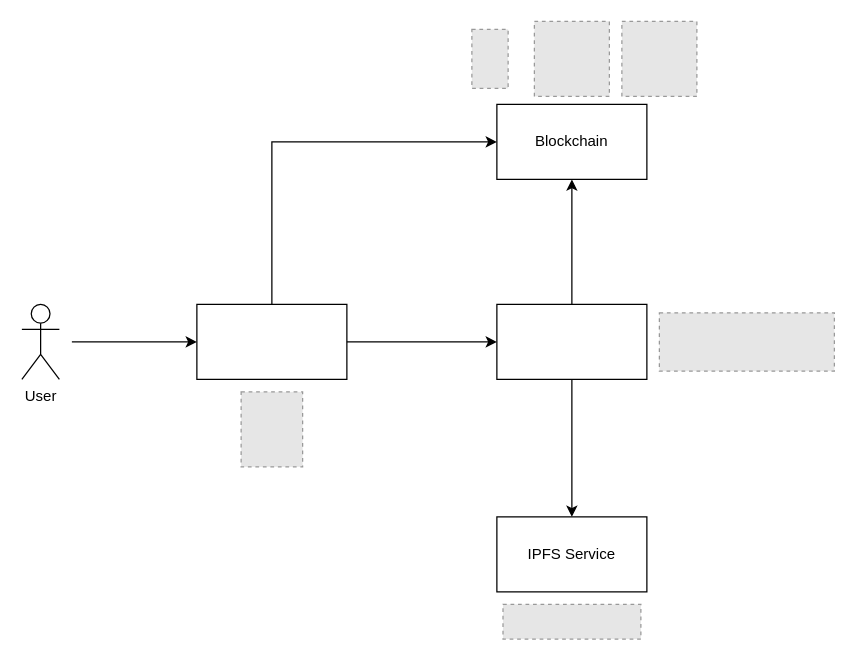
Image size: 856x663. Some labels were removed from this diagram. Grey dashed boxes stand in for pictures. The shapes that lost their labels are listed below. From the top down, each one's centre as x and y in pixels, then its label:
point 271,341: Frontend
point 571,341: Backend
